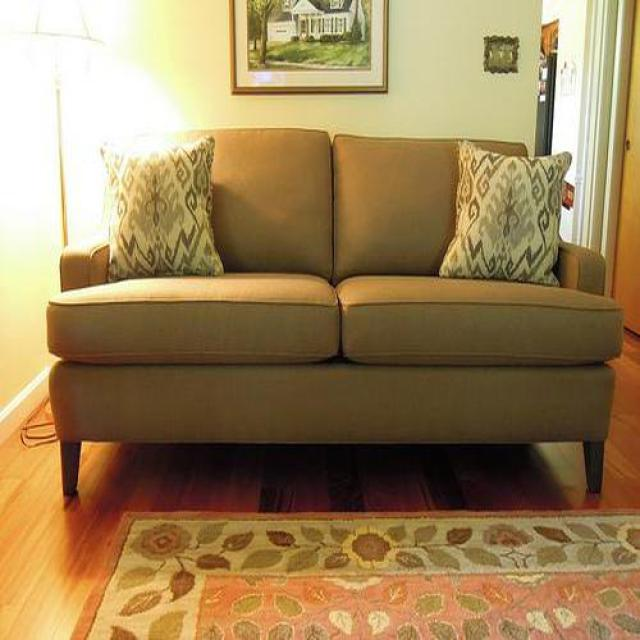sofa: (46, 128, 625, 504)
